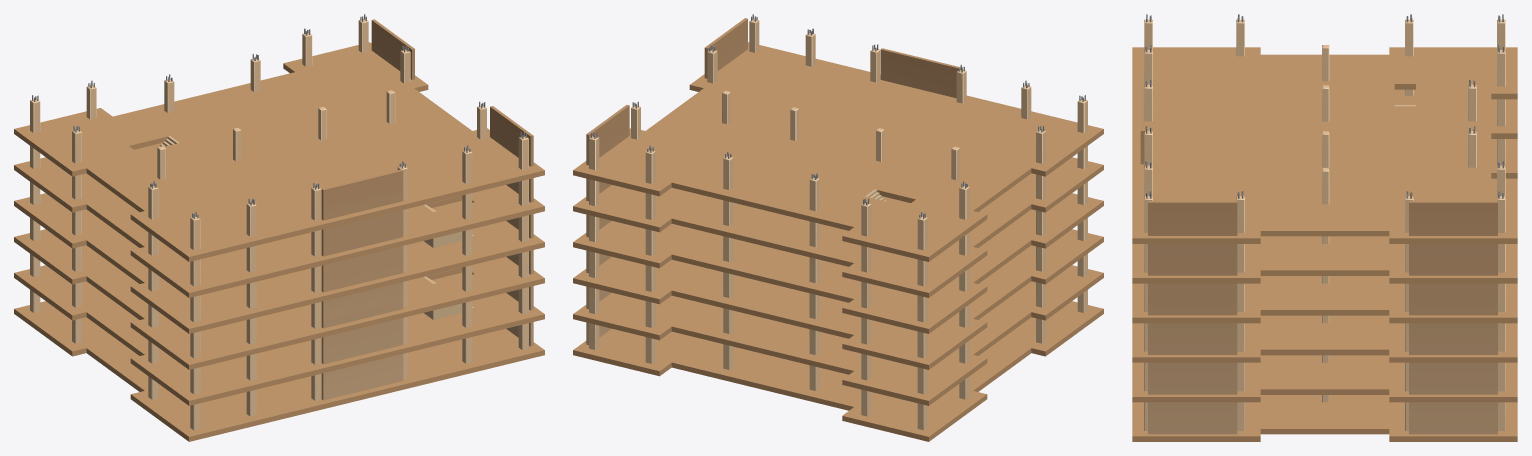
The model's file is cBuilding_1_3.obj.
3 renders of one model, left to right at view 1: azimuth 30°, elevation 25°; view 2: azimuth 150°, elevation 25°; view 3: azimuth 270°, elevation 25°, orthographic. The views are drawn at different scales.
Visible parts, largest first — view 1: cBuilding_1_3; view 2: cBuilding_1_3; view 3: cBuilding_1_3.
Boxes of the visible parts, x1,y1,x2,y2 form: cBuilding_1_3: (14, 14, 544, 441); cBuilding_1_3: (573, 14, 1103, 441); cBuilding_1_3: (1132, 14, 1517, 441).
Size of the model in its own units: 29.25 by 17.33 by 24.92.
